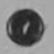correct: (6, 7, 47, 47)
